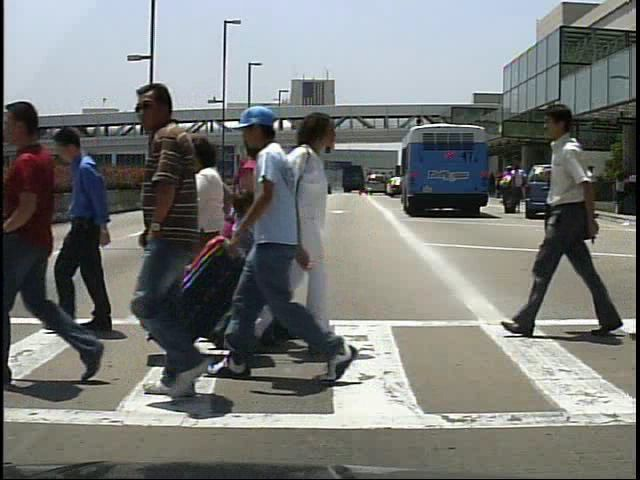person: (125, 84, 250, 420), (241, 105, 346, 387), (226, 110, 342, 363), (3, 91, 86, 390), (523, 97, 607, 340), (50, 122, 131, 335), (230, 122, 290, 361), (140, 129, 213, 322), (174, 134, 243, 328), (226, 183, 268, 338), (582, 163, 602, 218), (498, 166, 516, 219), (512, 165, 530, 215)
